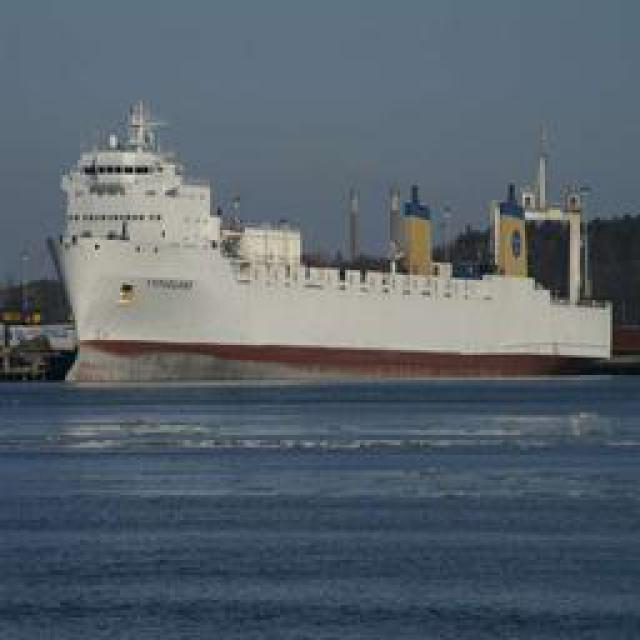Ship: (47, 131, 623, 388), (1, 269, 81, 382)
